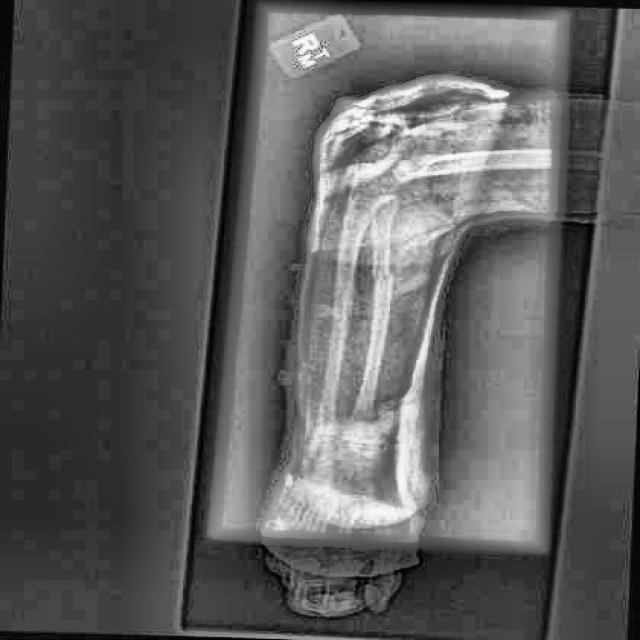forearm fracture: (358, 260, 407, 302)
